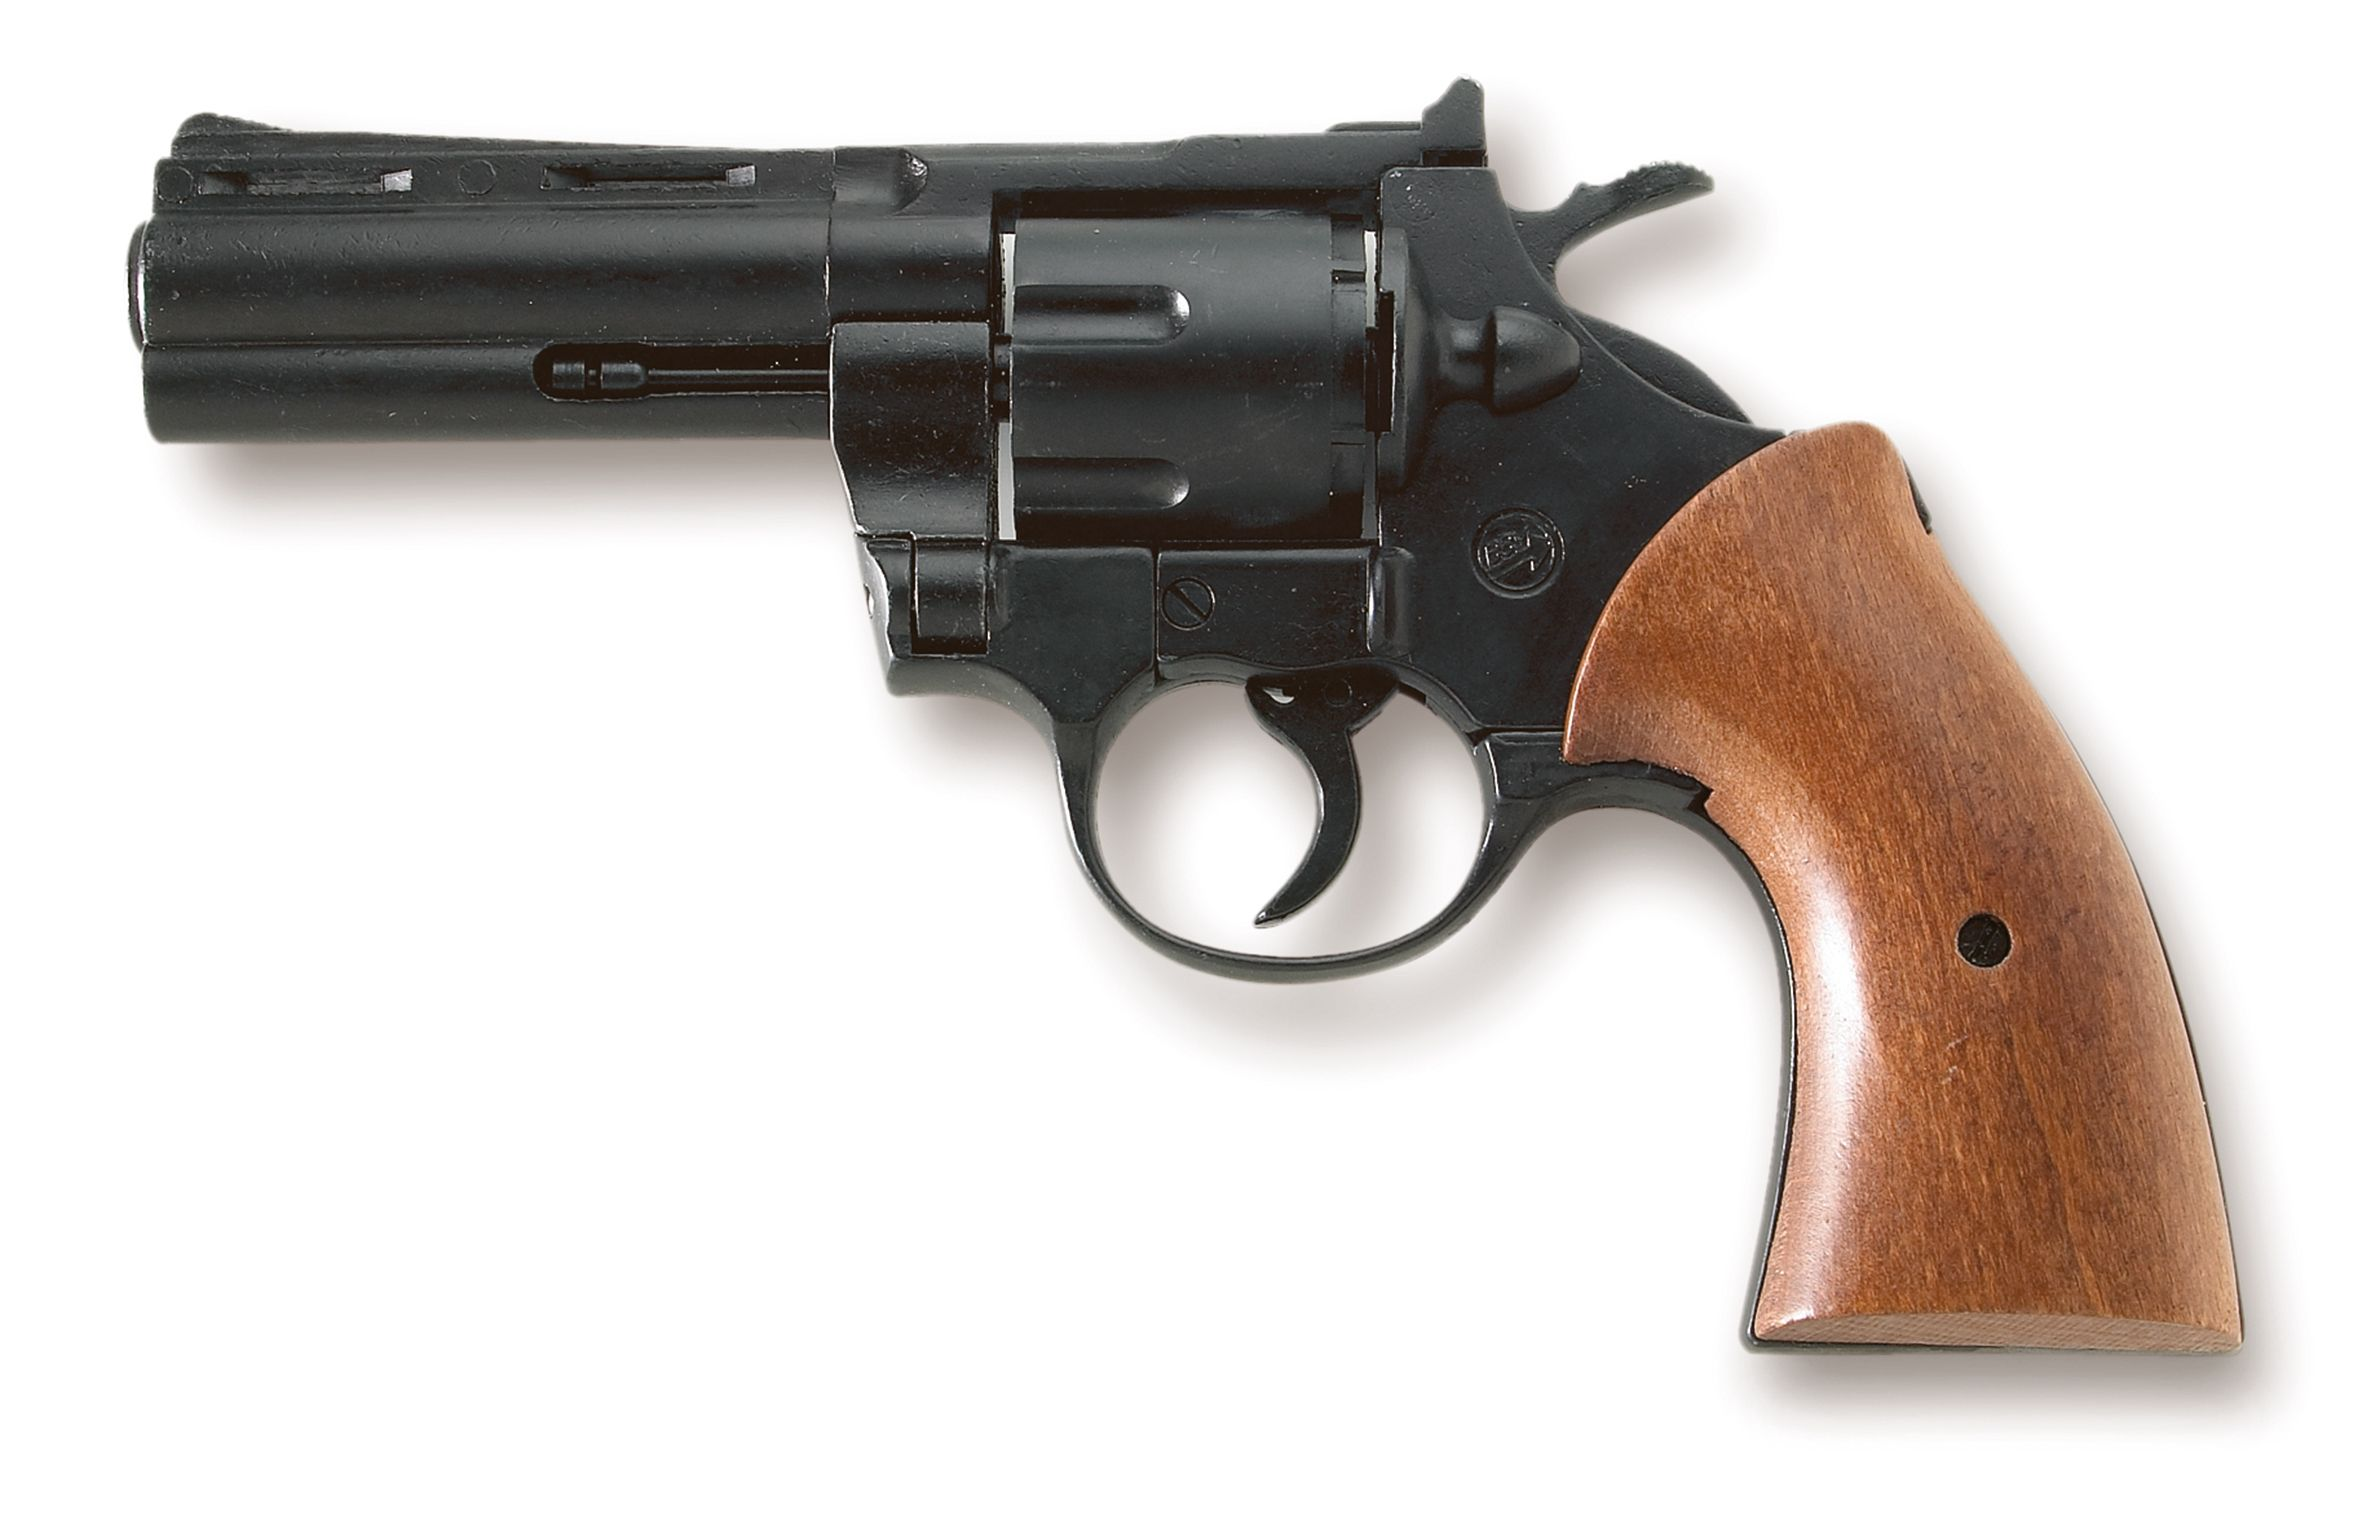Revolver: (84, 17, 2285, 1427)
